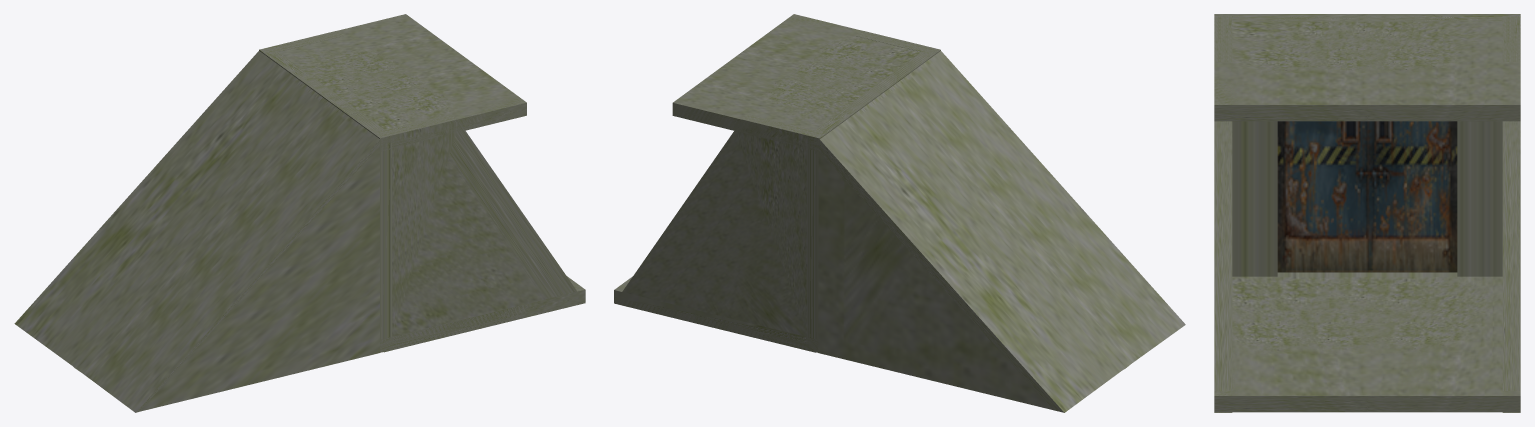
The model's file is bunkertest.glb.
3 renders of one model, left to right at view 1: azimuth 30°, elevation 25°; view 2: azimuth 150°, elevation 25°; view 3: azimuth 270°, elevation 25°, orthographic. The views are drawn at different scales.
Visible parts, largest first — view 1: Cube.002; view 2: Cube.002; view 3: Cube.002, doortest.
Part boxes in pixels (x1=…): Cube.002: x1=14, y1=14, x2=585, y2=412; Cube.002: x1=614, y1=14, x2=1185, y2=412; Cube.002: x1=1214, y1=14, x2=1520, y2=412; doortest: x1=1277, y1=121, x2=1457, y2=272.
Size of the model in its own units: 14.46 by 6.6 by 6.74.
2 materials, 2 textured.
